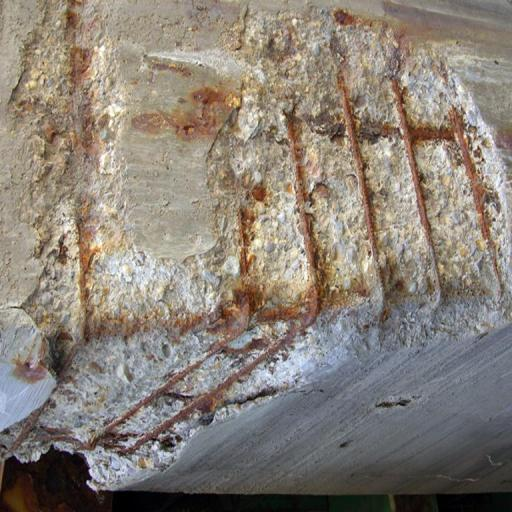spalling: (6, 6, 507, 490)
